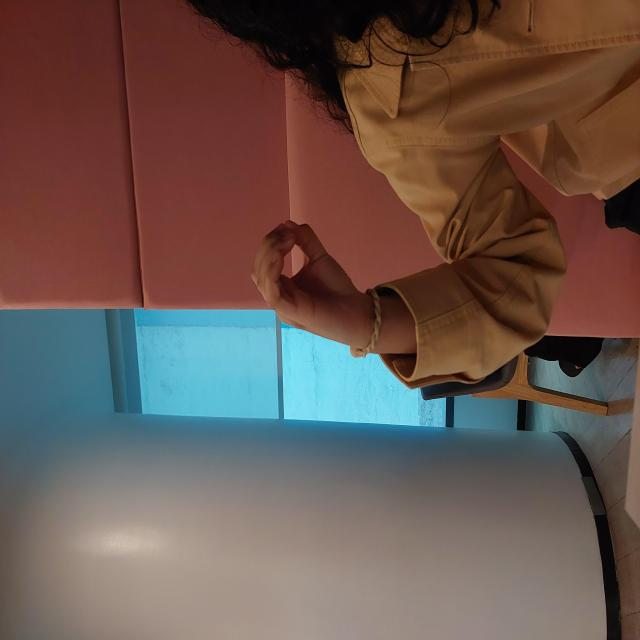O: (282, 244, 424, 376)
